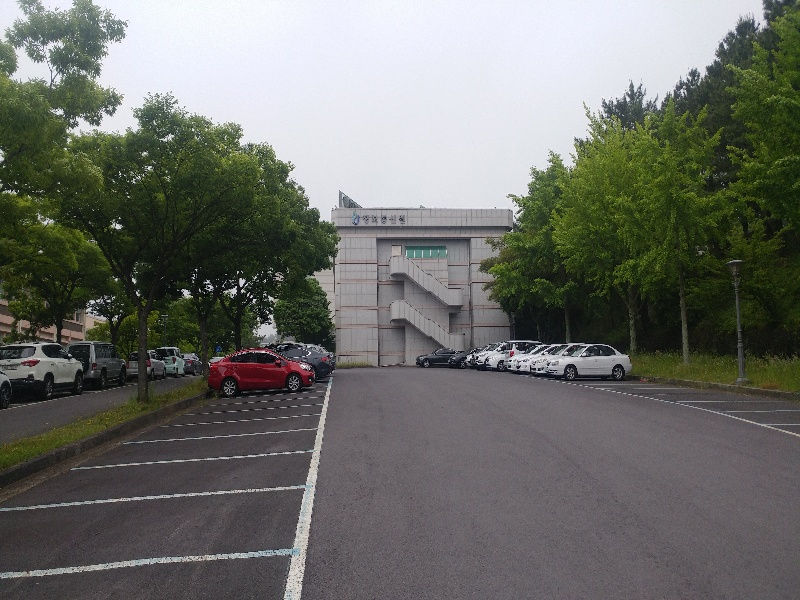Information Telecommunication Center: (328, 201, 514, 348), (347, 209, 417, 235)
